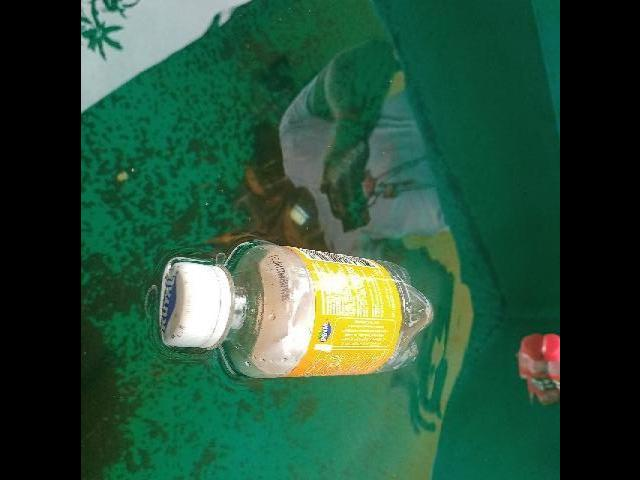Bottle: (150, 232, 438, 391), (532, 323, 560, 412)
